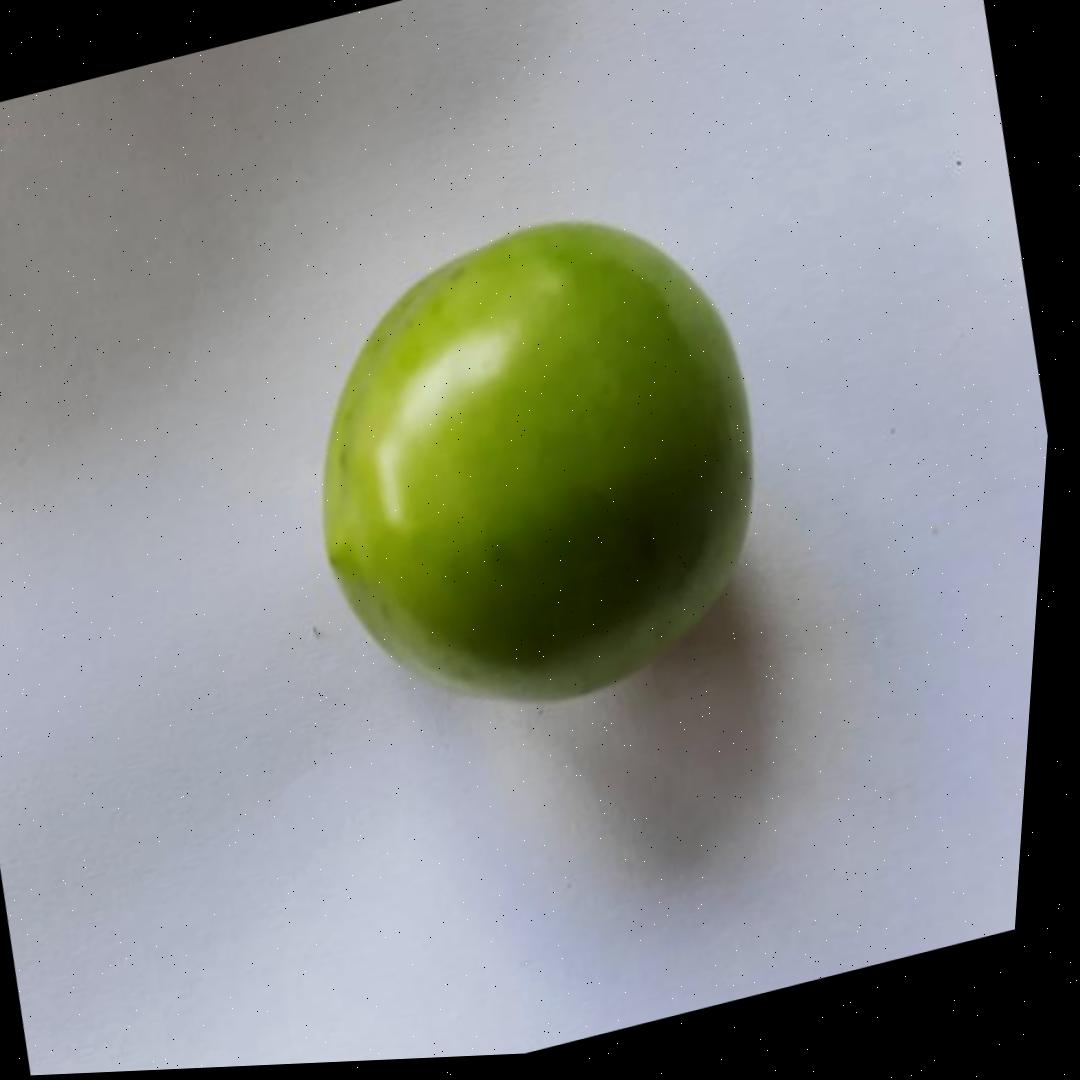mentah: (251, 170, 816, 764)
